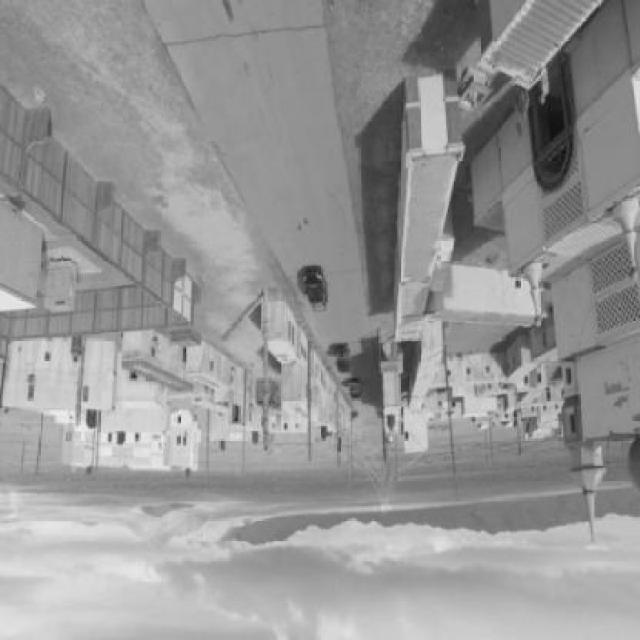Vehicle: (302, 270, 329, 314), (333, 343, 351, 376), (347, 380, 361, 405)
